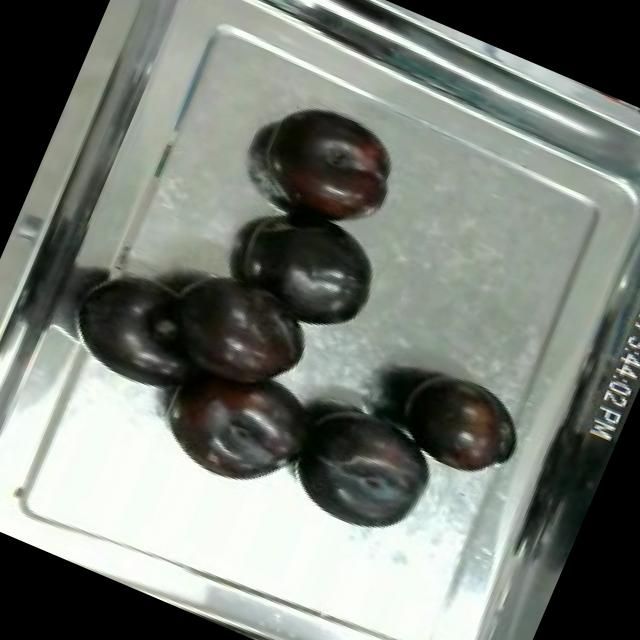Fruit: (142, 342, 336, 512), (268, 386, 450, 554), (153, 248, 330, 409), (243, 87, 415, 244), (228, 195, 396, 349), (384, 356, 534, 491)
